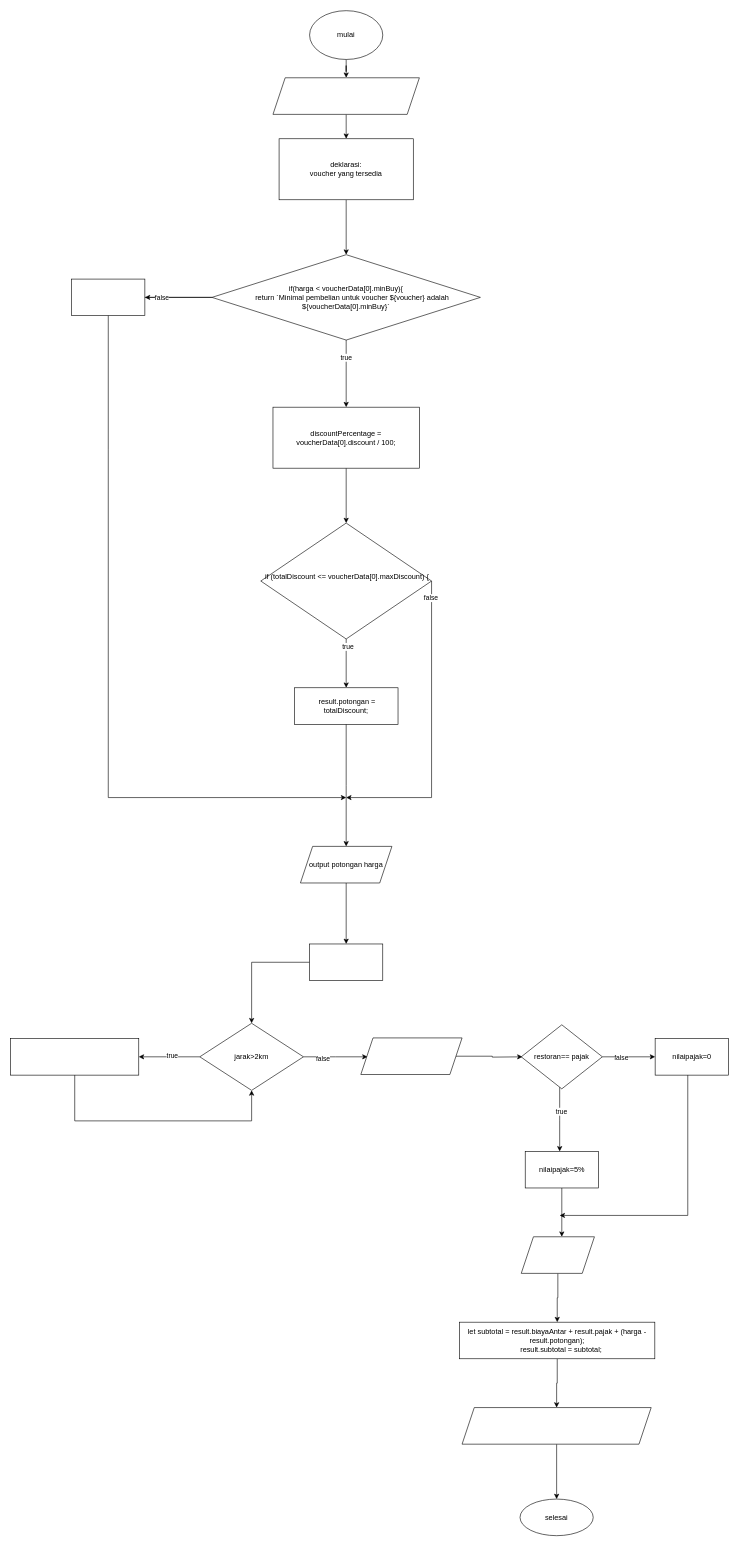
Some shapes in this 739 by 1546 pixel diagram are drawn without their labels. The centre of each missing label's shape, as x and y in pixels:
"console.log(FazzFood(75000, 'FAZZFOOD50', 5, true))" goes at [556,1425].
"for(let i = jarak; i <= 2+jarak; i++){ result.biayaAntar += 3000;" goes at [74,1056].
"inisiasi ongkos kirim=5000" goes at [346,962].
"input: harga, vouchet, jarak, pajak" goes at [345,95].
"ouput nilai pajak" goes at [557,1254].
"potongangan=0" goes at [108,297].
"result.biayaAntar = 5000;" goes at [411,1056].
